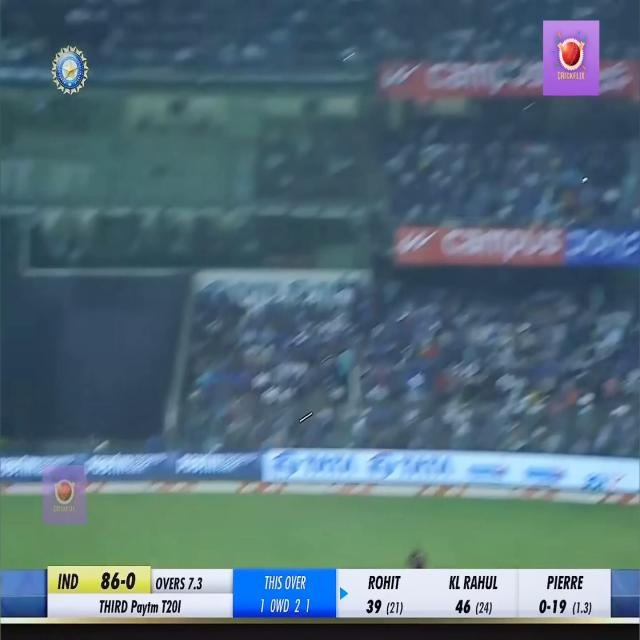fully_visible: (128, 596, 160, 620)
